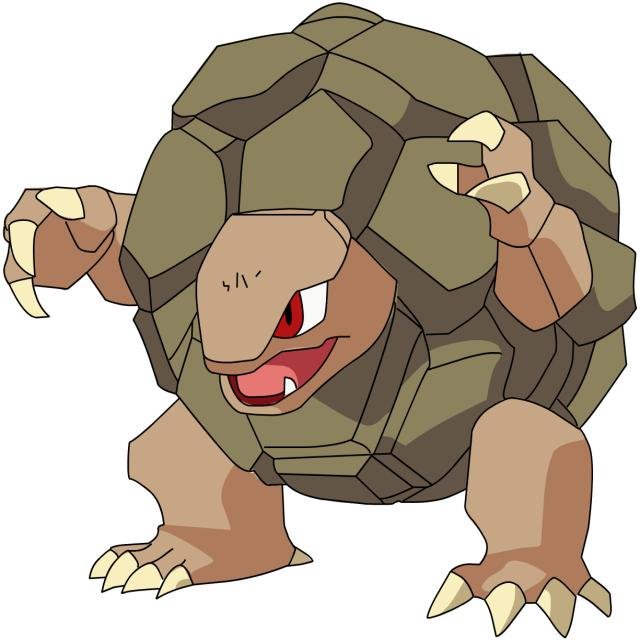Golem: (0, 3, 632, 638)
